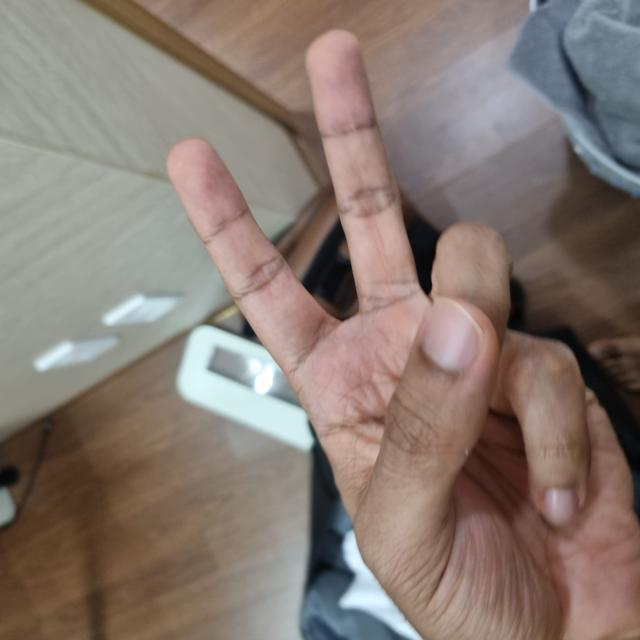Scissors: (3, 167, 602, 638)
